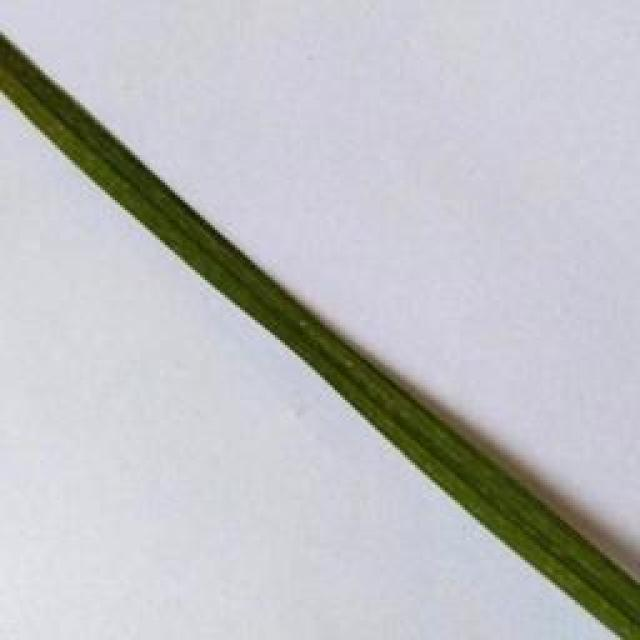Healthy-Plant: (0, 32, 75, 167), (75, 95, 148, 228), (148, 166, 223, 294), (567, 526, 640, 639), (402, 388, 464, 510), (339, 335, 402, 455), (223, 234, 283, 346), (516, 471, 566, 597), (284, 289, 340, 397), (464, 434, 515, 552)
